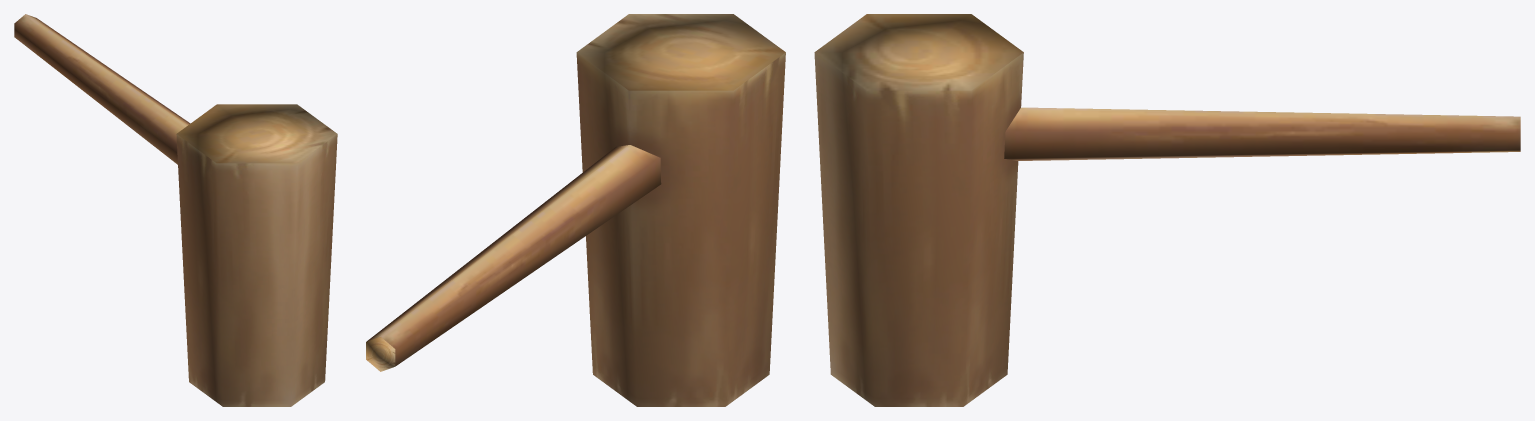
File: wCG00004.fbx
The picture shows the model from 3 angles, left to right: view 1: azimuth 30°, elevation 25°; view 2: azimuth 150°, elevation 25°; view 3: azimuth 270°, elevation 25°; orthographic projection. The views are drawn at different scales.
Parts seen in each view (by area): view 1: mallet_opq; view 2: mallet_opq; view 3: mallet_opq.
Boxes of the visible parts, x1,y1,x2,y2 form: mallet_opq: (14, 14, 337, 406); mallet_opq: (366, 14, 785, 406); mallet_opq: (814, 14, 1520, 406).
Bounding box in the file's own units: 0.1919 × 0.3762 × 0.7469.
1 material, 1 textured.
